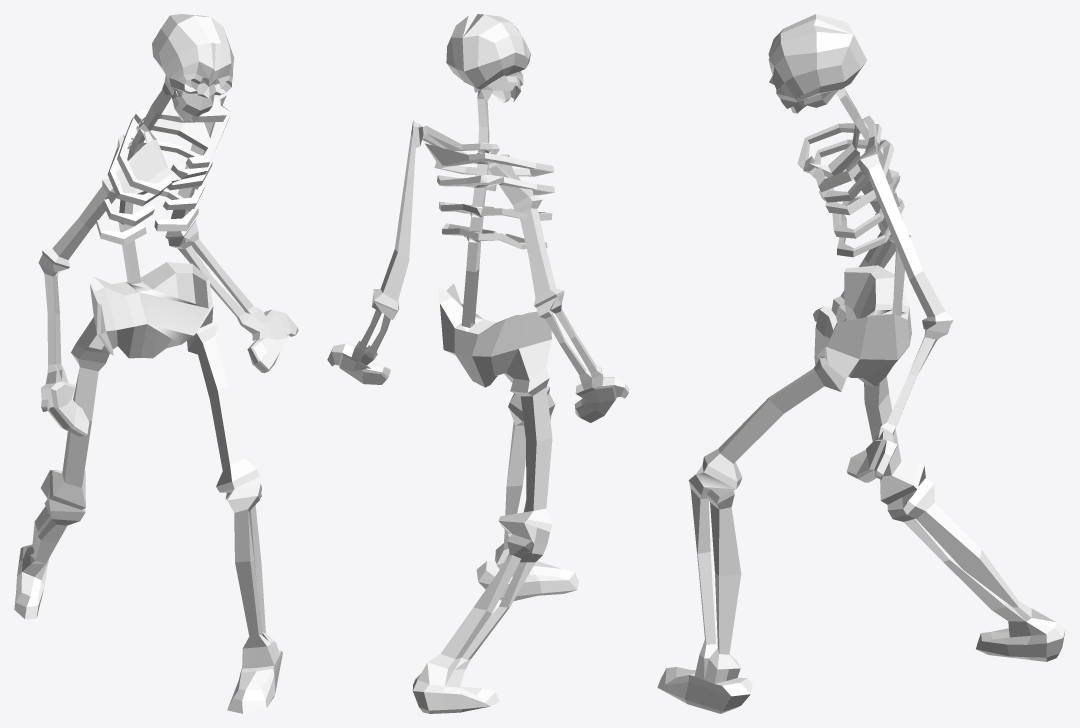
Rendered from SkeletonIdle(46).obj.
3 renders of one model, left to right at view 1: azimuth 30°, elevation 25°; view 2: azimuth 150°, elevation 25°; view 3: azimuth 270°, elevation 25°, orthographic. The views are drawn at different scales.
Parts seen in each view (by area): view 1: Object002; view 2: Object002; view 3: Object002.
Part boxes in pixels (<box>): Object002: <box>14,14,298,713</box>; Object002: <box>327,14,628,713</box>; Object002: <box>657,14,1065,713</box>.
Bounding box in the file's own units: 517 × 1116 × 609.
